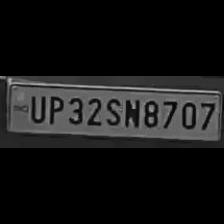0: (176, 99, 198, 130)
2: (84, 95, 102, 127)
3: (64, 94, 84, 126)
7: (197, 99, 215, 131), (160, 98, 176, 130)
8: (140, 96, 160, 128)
N: (122, 96, 140, 128)
P: (46, 93, 64, 125)
S: (102, 94, 122, 125)
U: (27, 92, 46, 124)
